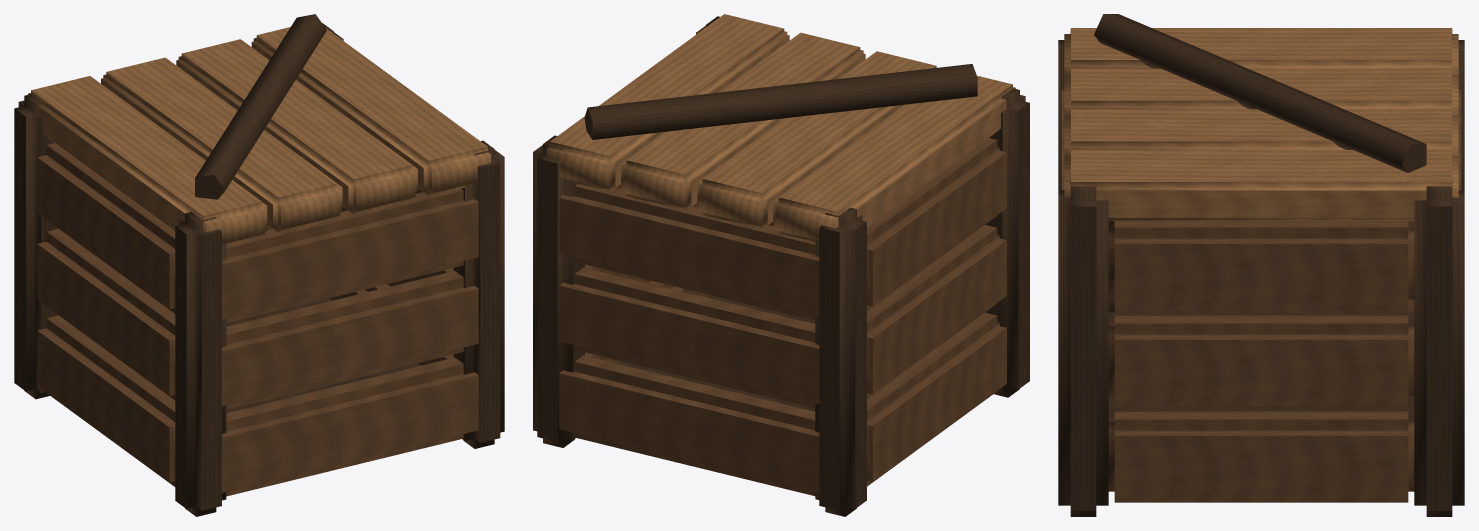
The model's file is crate-0.fbx.
The picture shows the model from 3 angles, left to right: view 1: azimuth 30°, elevation 25°; view 2: azimuth 150°, elevation 25°; view 3: azimuth 270°, elevation 25°; orthographic projection. The views are drawn at different scales.
Visible parts, largest first — view 1: crate-0__Geometry; view 2: crate-0__Geometry; view 3: crate-0__Geometry.
Part boxes in pixels (x1,y1,x2,y2): crate-0__Geometry: [14, 14, 504, 516]; crate-0__Geometry: [533, 14, 1029, 516]; crate-0__Geometry: [1058, 14, 1464, 516].
Size of the model in its own units: 0.845 by 0.823 by 0.845.
